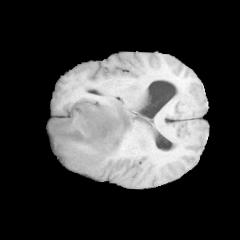glioma: (48, 97, 132, 174)
